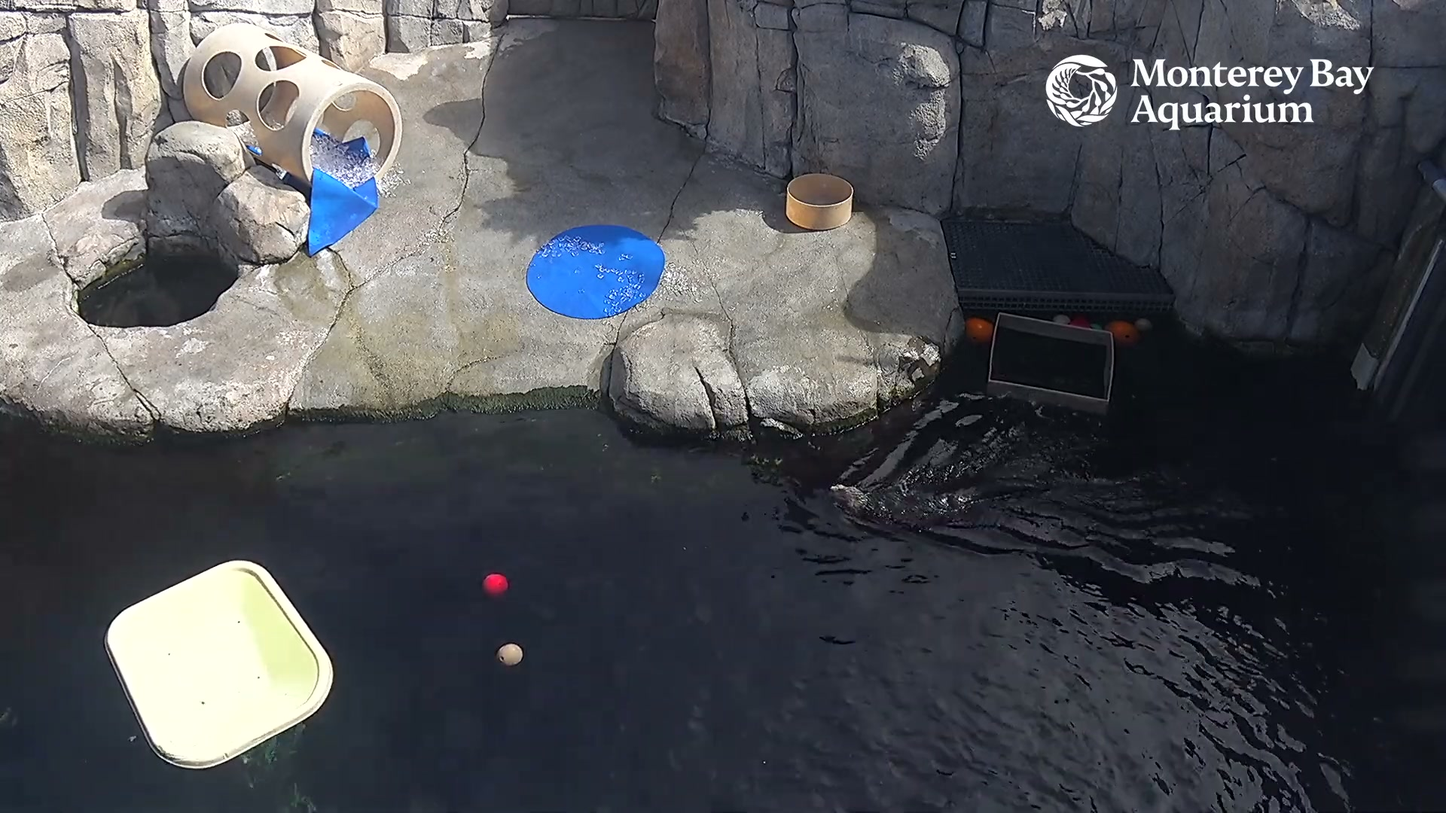Southern Sea Otter: (793, 449, 993, 549)
